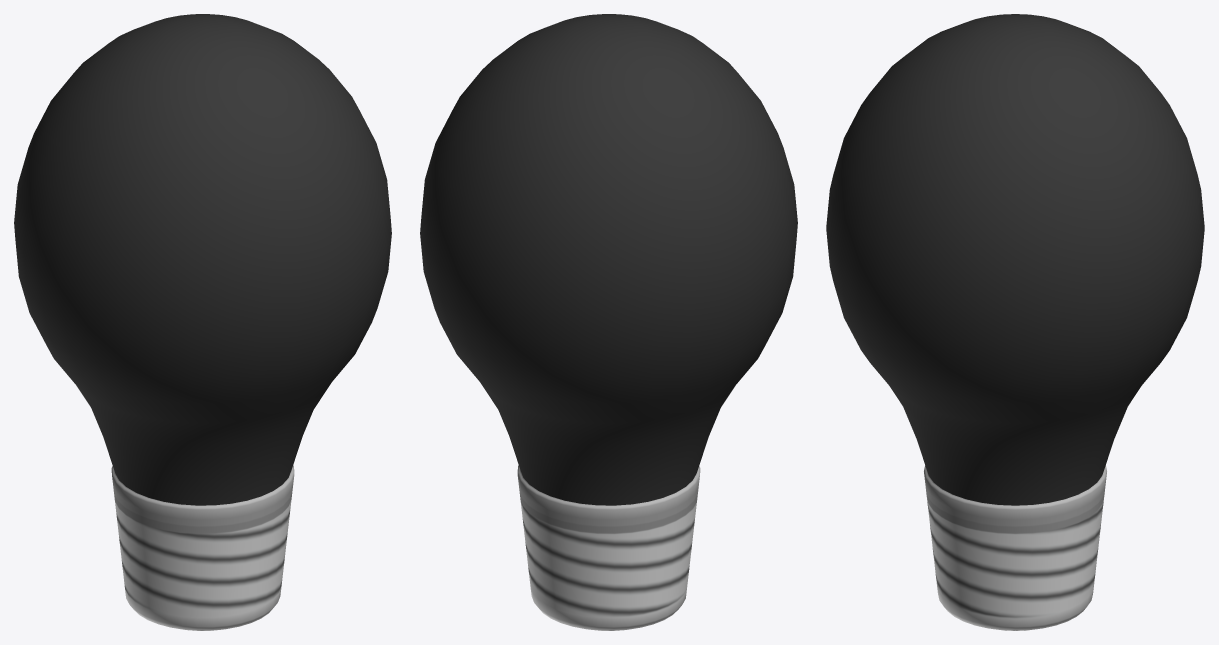
The model's file is eco-light.glb.
3 views of the same model, side by side, from view 1: azimuth 30°, elevation 25°; view 2: azimuth 150°, elevation 25°; view 3: azimuth 270°, elevation 25° (orthographic).
Parts seen in each view (by area): view 1: Object_3, Object_2; view 2: Object_3, Object_2; view 3: Object_3, Object_2.
Part boxes in pixels (bbox=[...]): Object_3: bbox=[14, 14, 391, 505]; Object_2: bbox=[111, 465, 294, 630]; Object_3: bbox=[420, 14, 797, 505]; Object_2: bbox=[517, 465, 700, 630]; Object_3: bbox=[826, 14, 1204, 505]; Object_2: bbox=[924, 465, 1106, 630].
Size of the model in its own units: 2 by 3.43 by 2.
2 materials, 1 textured.
